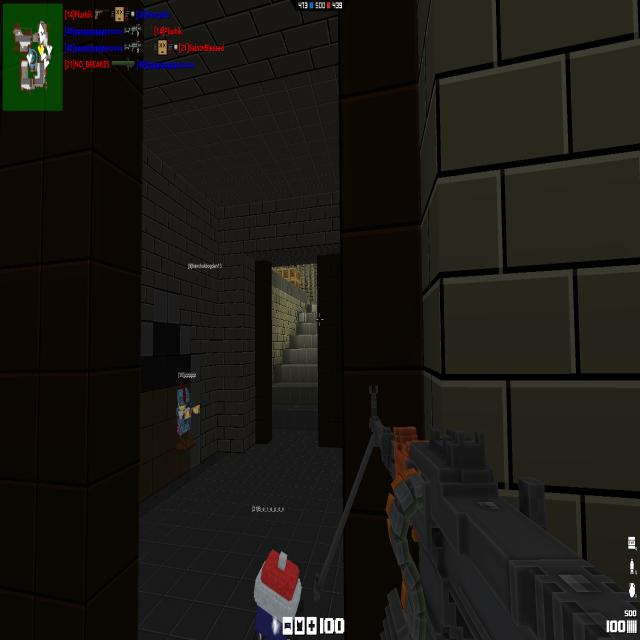player: (252, 549, 303, 640), (176, 378, 200, 452)
